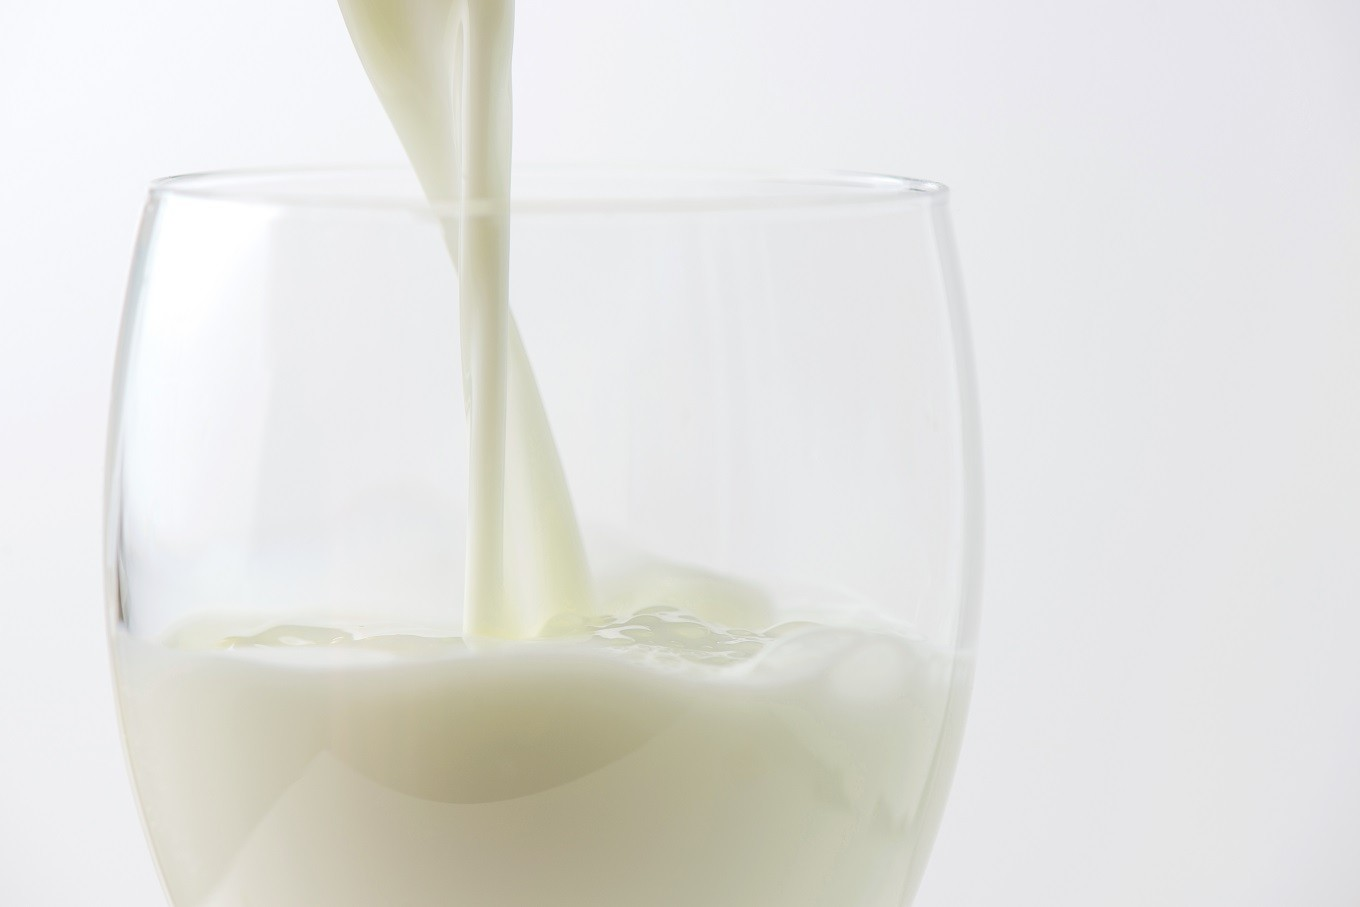glass of milk: (100, 150, 973, 907)
